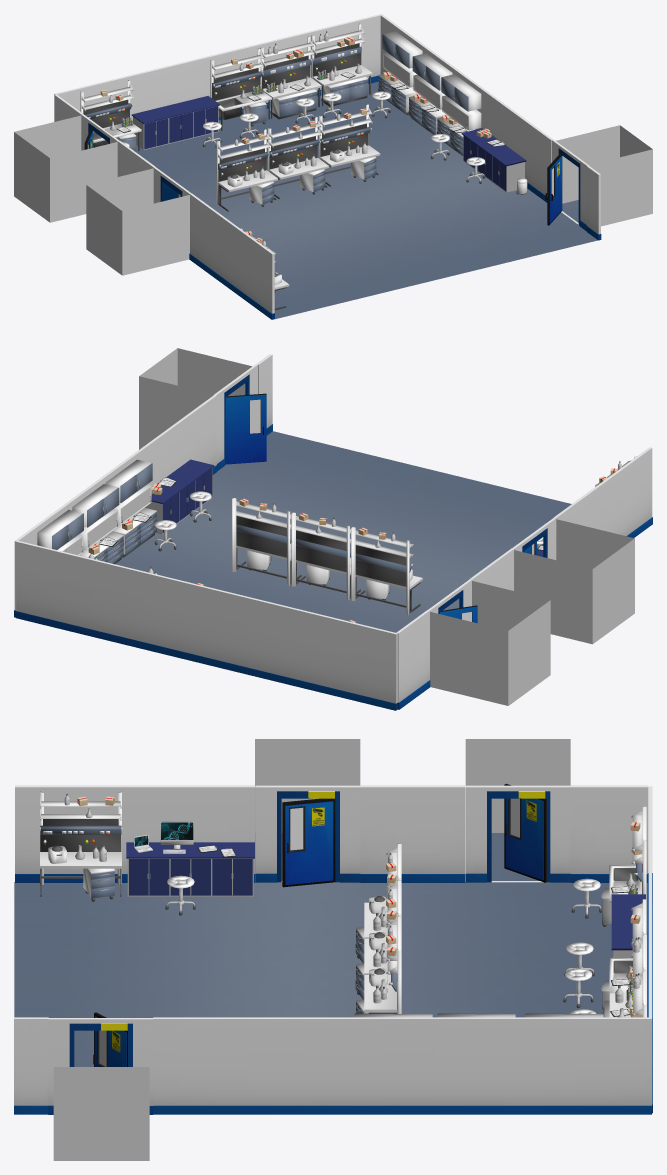
The model's file is lab_2.fbx.
3 views of the same model, one above another, from view 1: azimuth 30°, elevation 25°; view 2: azimuth 150°, elevation 25°; view 3: azimuth 270°, elevation 25° (orthographic). The views are drawn at different scales.
Visible parts, largest first — view 1: Plane, Cube.010, Cube.009, Cube.019, Cube.002, Cube.140, Cube.145, Cube.102, Cube.111, Cube.153, Cube.161, Cube.064 (+24 smaller); view 2: Plane, Cube.010, Cube.019, Cube.009, Plane.003, Cube.008, Cube.140, Cube.145, Cube.161, Cube.153, Cube.066, Cube.117 (+7 smaller); view 3: Plane, Cube.019, Cube.009, Cube.005, Cube.008, Cube, Cube.004, Cube.013, Plane.002, Cube.020, Plane.001, Cube.018 (+14 smaller).
Boxes of the visible parts, x1,y1,x2,y2 form: Plane: (14, 81, 652, 319); Cube.010: (54, 14, 380, 122); Cube.009: (189, 193, 274, 319); Cube.019: (380, 14, 552, 202); Cube.002: (131, 96, 219, 149); Cube.140: (461, 128, 526, 192); Cube.145: (216, 129, 270, 204); Cube.102: (210, 48, 263, 100); Cube.111: (311, 23, 364, 78); Cube.153: (267, 116, 321, 171); Cube.161: (318, 104, 372, 158); Cube.064: (260, 36, 313, 88); Plane: (115, 348, 634, 705); Cube.010: (16, 540, 397, 710); Cube.019: (14, 395, 217, 617); Cube.009: (554, 447, 652, 537); Plane.003: (225, 393, 266, 464); Cube.008: (396, 610, 430, 709); Cube.140: (145, 459, 214, 534); Cube.145: (351, 527, 413, 615); Cube.161: (232, 497, 291, 586); Cube.153: (291, 512, 350, 600); Cube.066: (37, 509, 83, 549); Cube.117: (72, 484, 119, 527); Plane: (14, 739, 647, 1160); Cube.019: (153, 1017, 651, 1114); Cube.009: (15, 785, 255, 882); Cube.005: (360, 785, 465, 882); Cube.008: (570, 785, 648, 882); Cube: (126, 842, 254, 896); Cube.004: (465, 785, 570, 882); Cube.013: (255, 785, 360, 882); Plane.002: (282, 798, 335, 887); Cube.020: (14, 1017, 48, 1114); Plane.001: (504, 783, 546, 882); Cube.018: (48, 1018, 153, 1114).
Bounding box in the file's own units: 2998 × 414 × 2470.
